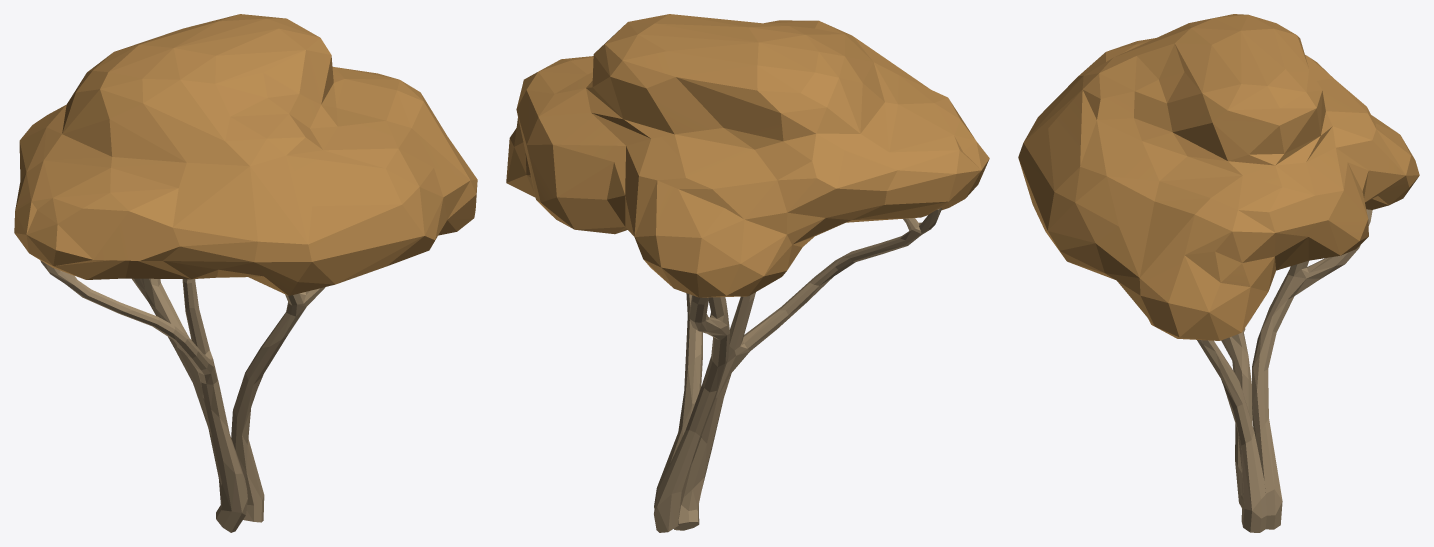
The model's file is LightWoodDecorationMediumTreewCanopy2.fbx.
3 renders of one model, left to right at view 1: azimuth 30°, elevation 25°; view 2: azimuth 150°, elevation 25°; view 3: azimuth 270°, elevation 25°, orthographic. The views are drawn at different scales.
Parts seen in each view (by area): view 1: Canopy, Trunk; view 2: Canopy, Trunk; view 3: Canopy, Trunk.
Part boxes in pixels (x1,y1,x2,y2): Canopy: (14, 14, 477, 295); Trunk: (40, 260, 325, 532); Canopy: (506, 14, 989, 297); Trunk: (654, 208, 941, 532); Canopy: (1018, 14, 1419, 340); Trunk: (1197, 209, 1372, 532).
Bounding box in the file's own units: 1283 × 1360 × 1065.
